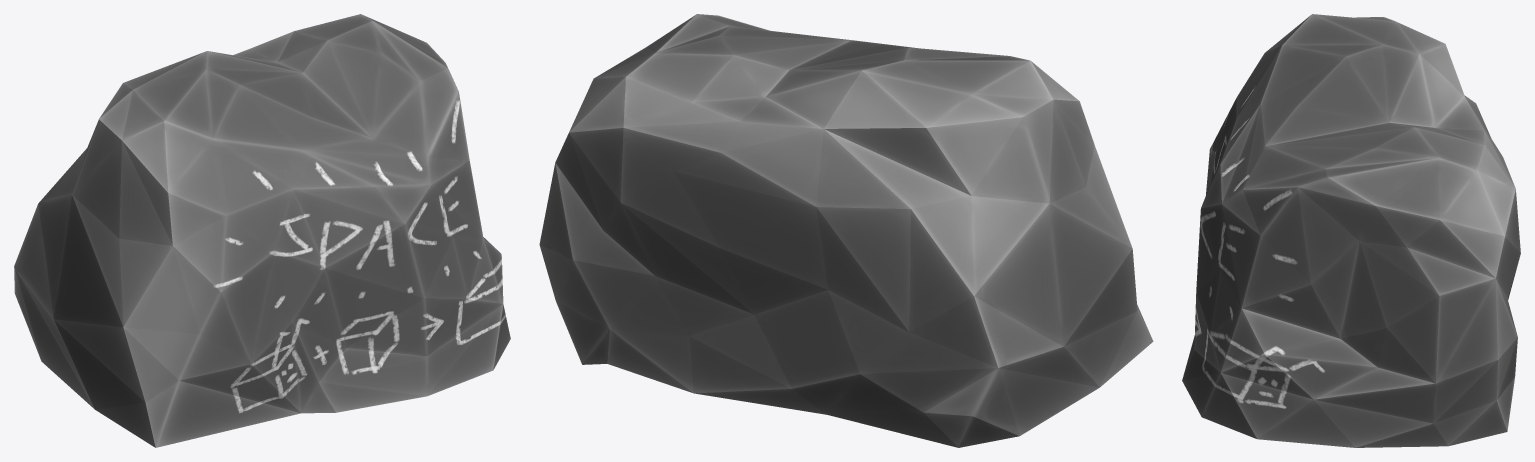
File: Consume_Rock.fbx
3 views of the same model, side by side, from view 1: azimuth 30°, elevation 25°; view 2: azimuth 150°, elevation 25°; view 3: azimuth 270°, elevation 25° (orthographic). The views are drawn at different scales.
Visible parts, largest first — view 1: Consume_Rock; view 2: Consume_Rock; view 3: Consume_Rock.
Part boxes in pixels (x1,y1,x2,y2): Consume_Rock: (14, 14, 510, 447); Consume_Rock: (539, 14, 1153, 447); Consume_Rock: (1182, 14, 1520, 447).
Size of the model in its own units: 726 by 469 by 517.
1 material, 1 textured.
